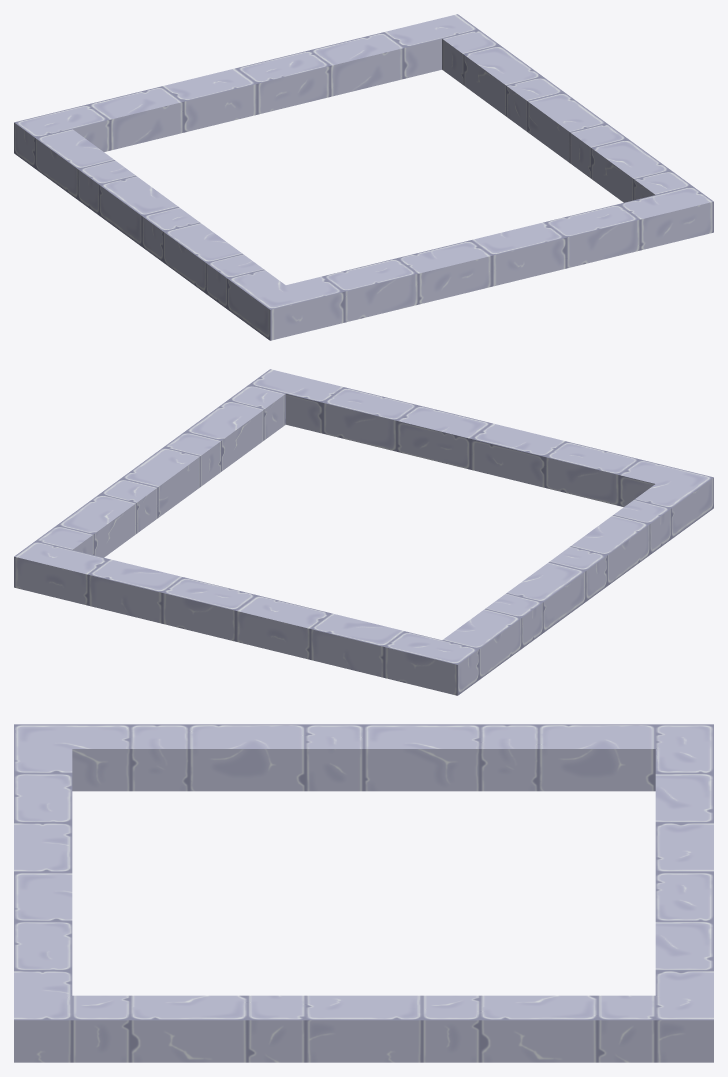
Rendered from SM_Trapdoor.fbx.
The picture shows the model from 3 angles, top to bottom: view 1: azimuth 30°, elevation 25°; view 2: azimuth 150°, elevation 25°; view 3: azimuth 270°, elevation 25°; orthographic projection. The views are drawn at different scales.
Visible parts, largest first — view 1: SM_Trapdoor; view 2: SM_Trapdoor; view 3: SM_Trapdoor.
Part boxes in pixels (left/top/right/bottom): SM_Trapdoor: left=14, top=14, right=713, bottom=340; SM_Trapdoor: left=14, top=369, right=713, bottom=695; SM_Trapdoor: left=14, top=724, right=713, bottom=1062.
Bounding box in the file's own units: 6 × 6 × 0.4.
